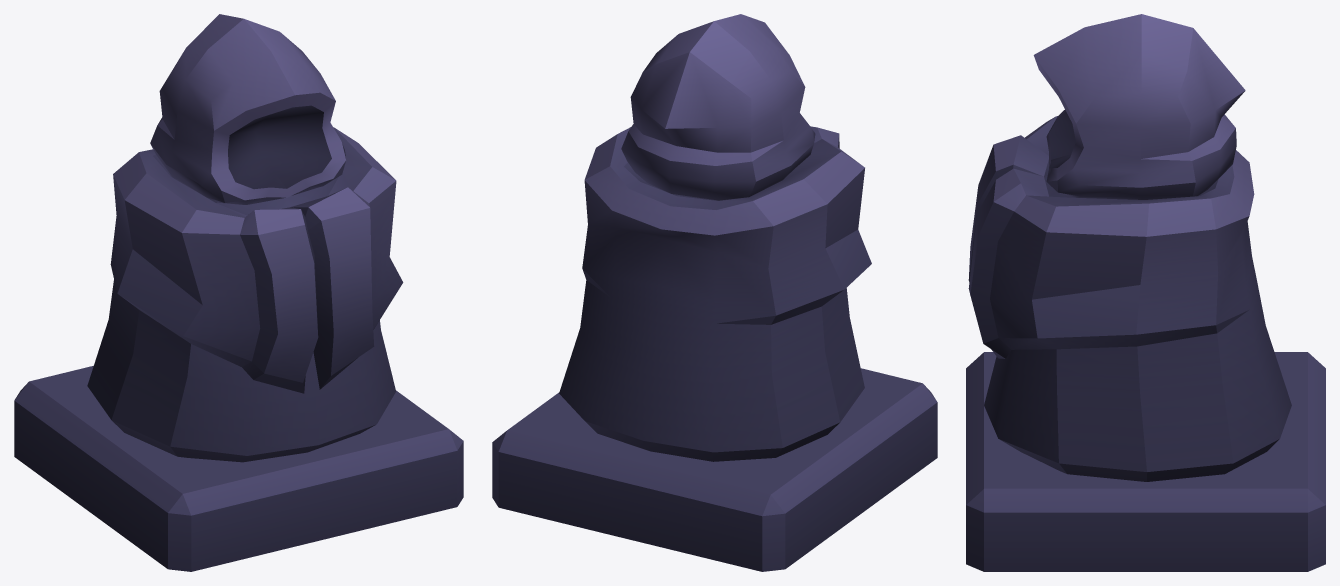
File: tomb_statue.glb
The picture shows the model from 3 angles, left to right: view 1: azimuth 30°, elevation 25°; view 2: azimuth 150°, elevation 25°; view 3: azimuth 270°, elevation 25°; orthographic projection. The views are drawn at different scales.
Visible parts, largest first — view 1: tomb_statue; view 2: tomb_statue; view 3: tomb_statue.
Part boxes in pixels (x1,y1,x2,y2): tomb_statue: (14, 14, 463, 571); tomb_statue: (492, 14, 937, 571); tomb_statue: (966, 14, 1325, 571).
Size of the model in its own units: 2 by 2.97 by 2.
1 material, 1 textured.
